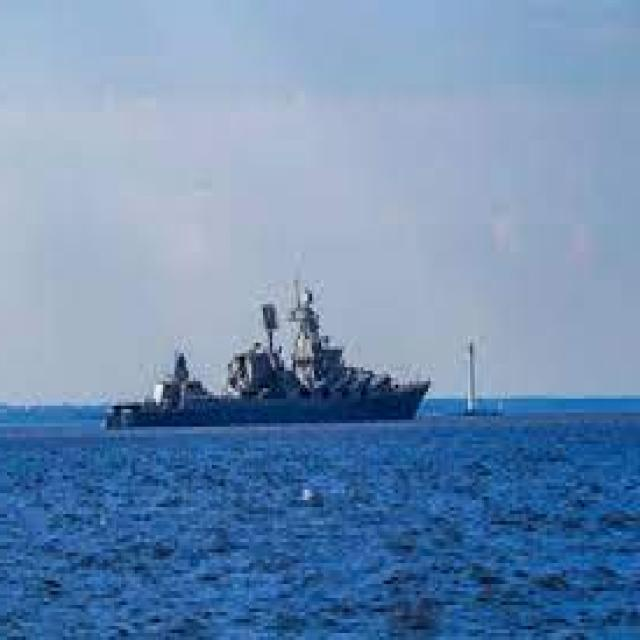navalvessels: (97, 295, 435, 445)
